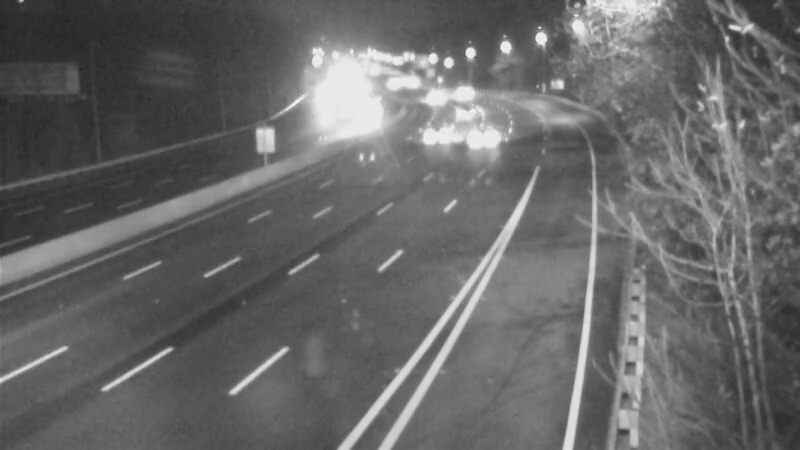vehicle: (446, 66, 496, 116), (408, 73, 458, 123), (434, 89, 484, 139), (458, 112, 508, 162), (416, 112, 466, 162), (347, 91, 397, 141)
